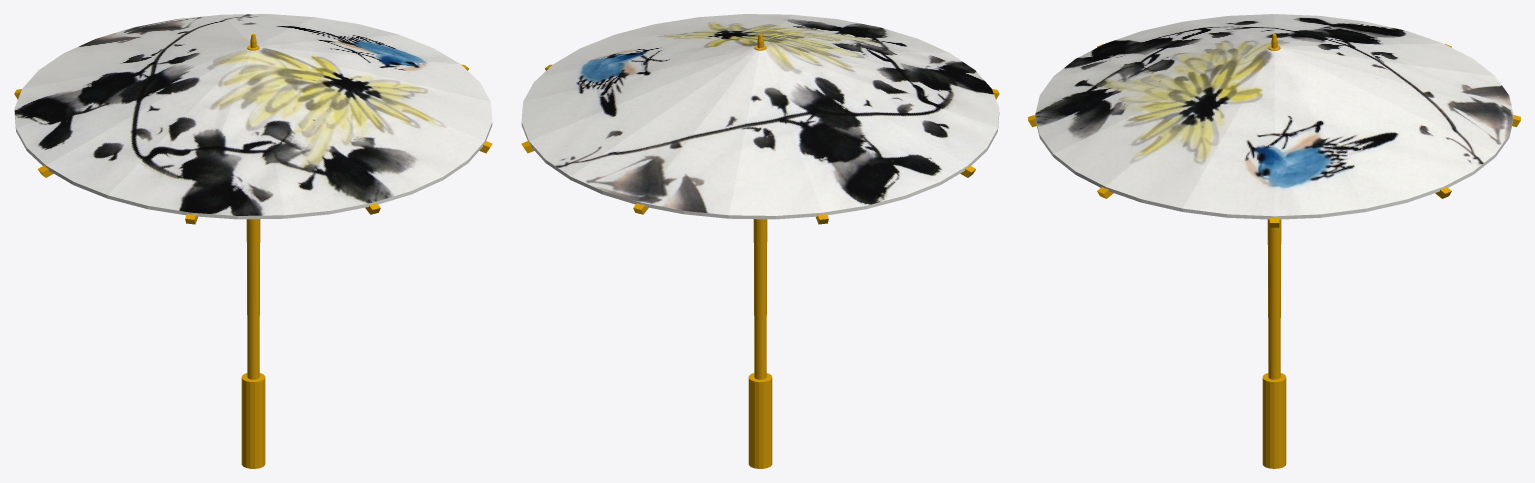
The picture shows the model from 3 angles, left to right: view 1: azimuth 30°, elevation 25°; view 2: azimuth 150°, elevation 25°; view 3: azimuth 270°, elevation 25°; orthographic projection.
Parts seen in each view (by area): view 1: 柱体, 柱体.001; view 2: 柱体, 柱体.001; view 3: 柱体, 柱体.001.
Part boxes in pixels (x1,y1,x2,y2): 柱体: (14,14,492,219); 柱体.001: (14,34,492,468); 柱体: (521,14,999,219); 柱体.001: (521,34,999,468); 柱体: (1035,14,1513,219); 柱体.001: (1028,34,1520,468).
Size of the model in its own units: 2.06 by 1.98 by 2.06.
2 materials, 1 textured.
